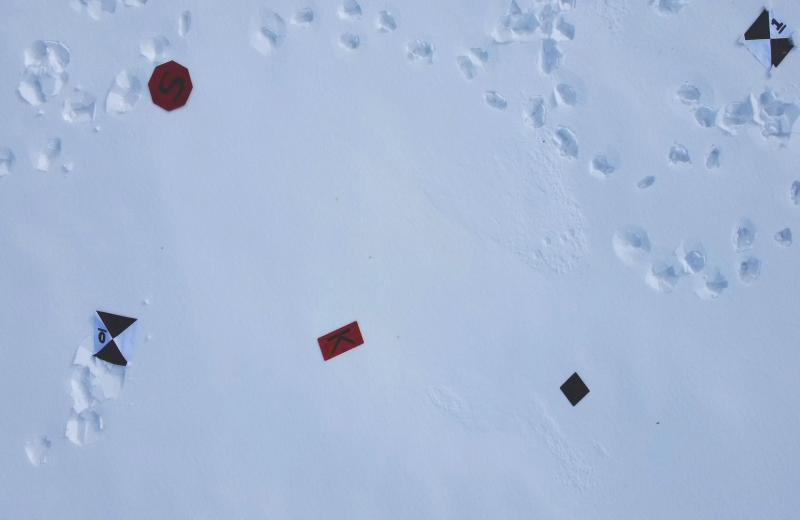Octagon: (147, 60, 196, 115)
Rectangle: (316, 320, 364, 362)
Square: (559, 372, 590, 408)
